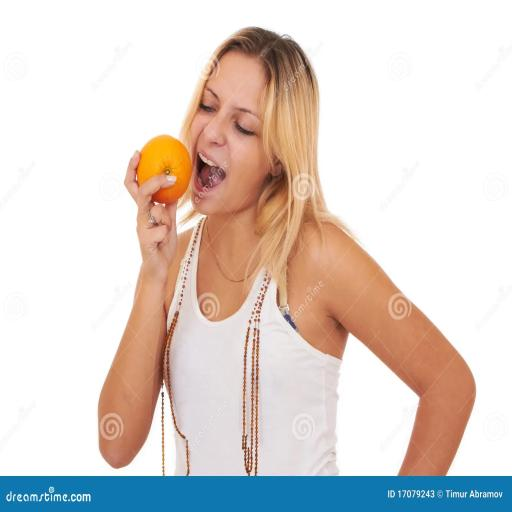orange: (137, 135, 191, 203)
